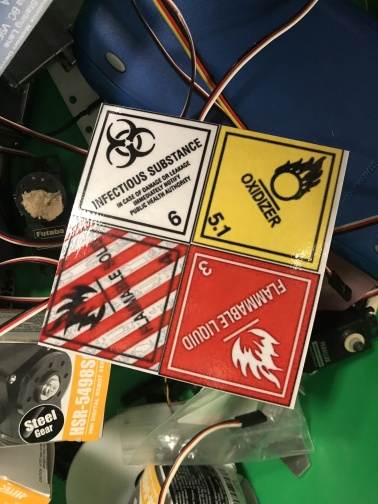FlammableLiquid: (160, 243, 309, 407)
FlammableSolid: (38, 216, 189, 373)
InfectiousSubstance: (73, 101, 218, 242)
Oxidizer: (192, 124, 343, 271)
